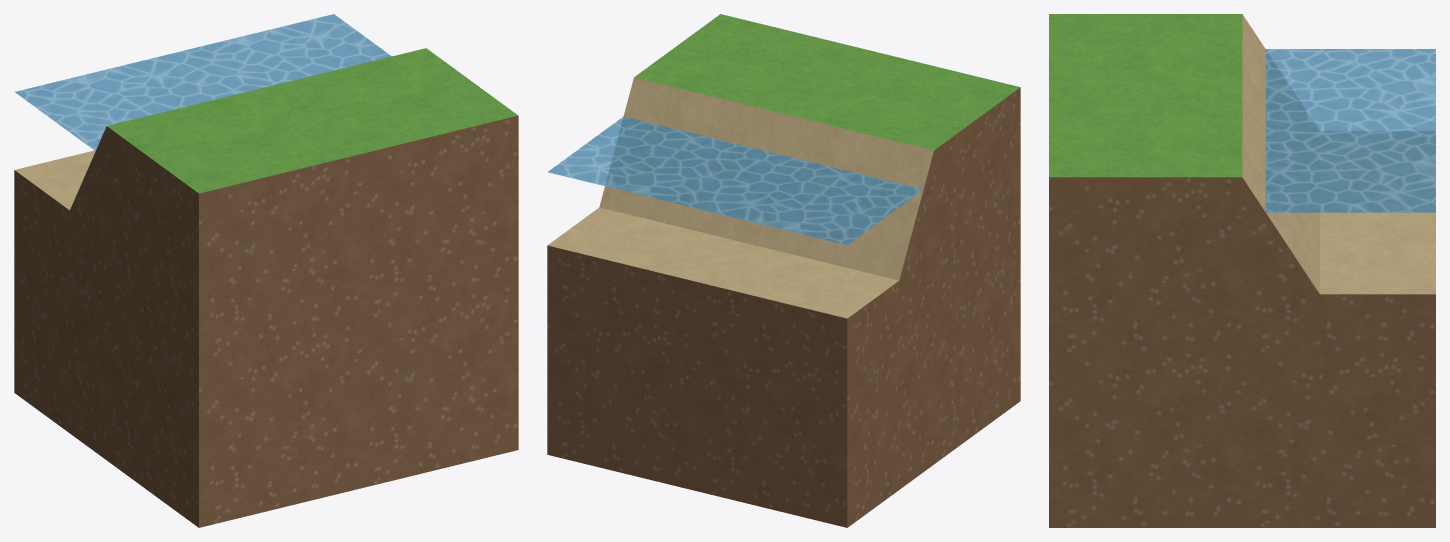
File: Water_Edge_F.fbx
3 views of the same model, side by side, from view 1: azimuth 30°, elevation 25°; view 2: azimuth 150°, elevation 25°; view 3: azimuth 270°, elevation 25° (orthographic). The views are drawn at different scales.
Visible parts, largest first — view 1: Water_Edge_F, Water_Edge_F_Water; view 2: Water_Edge_F, Water_Edge_F_Water; view 3: Water_Edge_F, Water_Edge_F_Water.
Boxes of the visible parts, x1,y1,x2,y2 form: Water_Edge_F: [14, 48, 518, 527]; Water_Edge_F_Water: [15, 14, 391, 150]; Water_Edge_F: [547, 14, 1020, 527]; Water_Edge_F_Water: [547, 116, 922, 245]; Water_Edge_F: [1049, 14, 1435, 527]; Water_Edge_F_Water: [1265, 49, 1435, 212].
Bounding box in the file's own units: 3 × 3 × 3.
4 materials, 4 textured.
